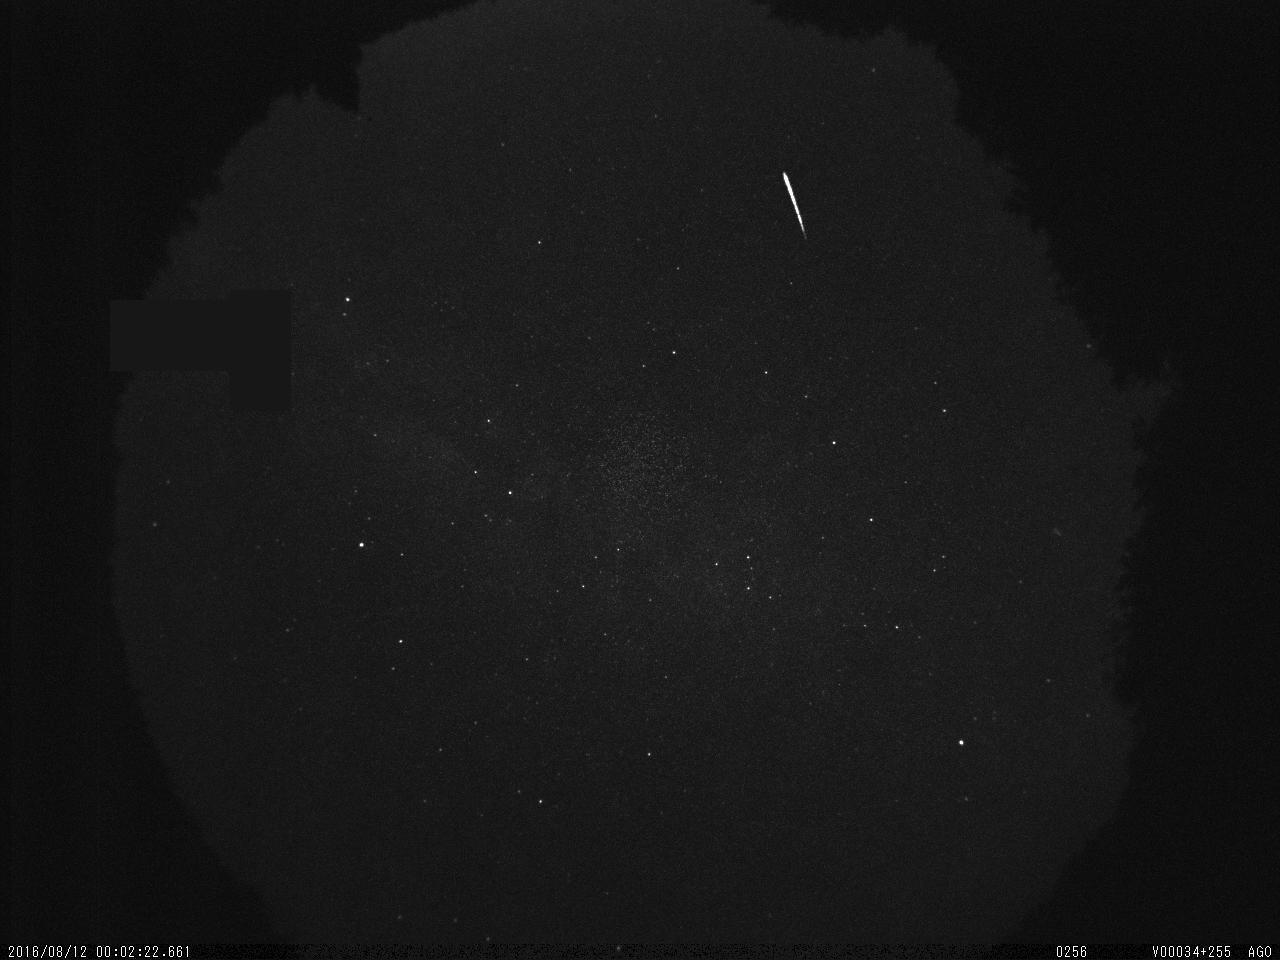meteor: (762, 157, 833, 251)
